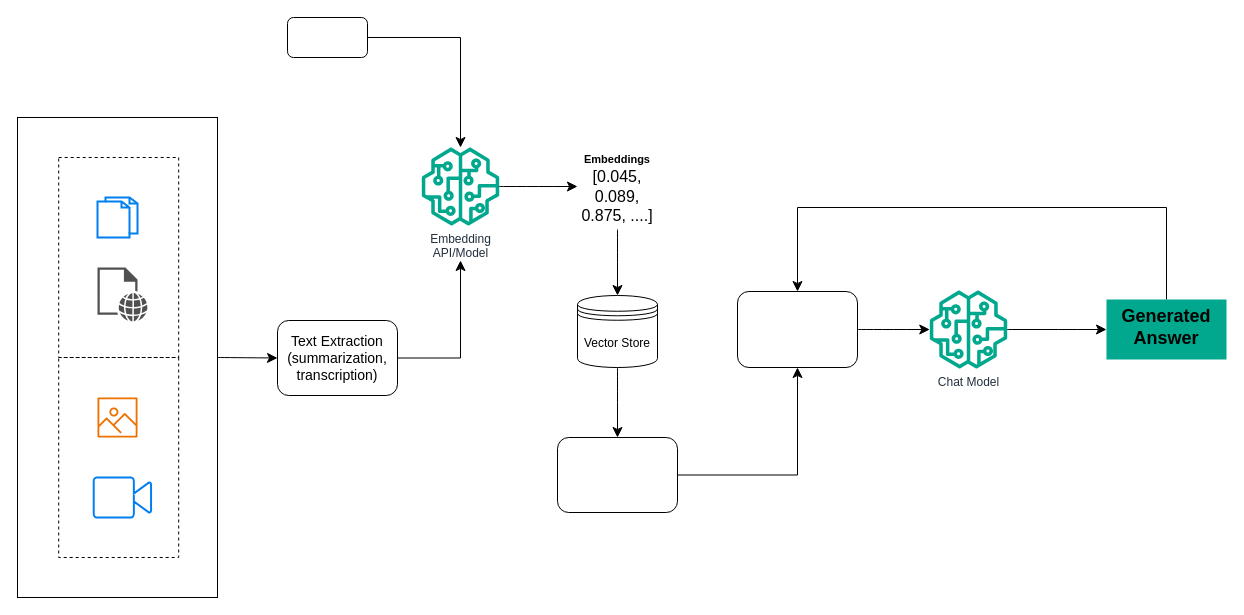
Some shapes in this 1244 by 615 pixel diagram are drawn without their labels. Each missing label, with the box of its shape:
Conversation Chain: (736, 290, 858, 368)
Query: (286, 16, 368, 58)
Similar Texts and Embeddings: (556, 436, 678, 512)
